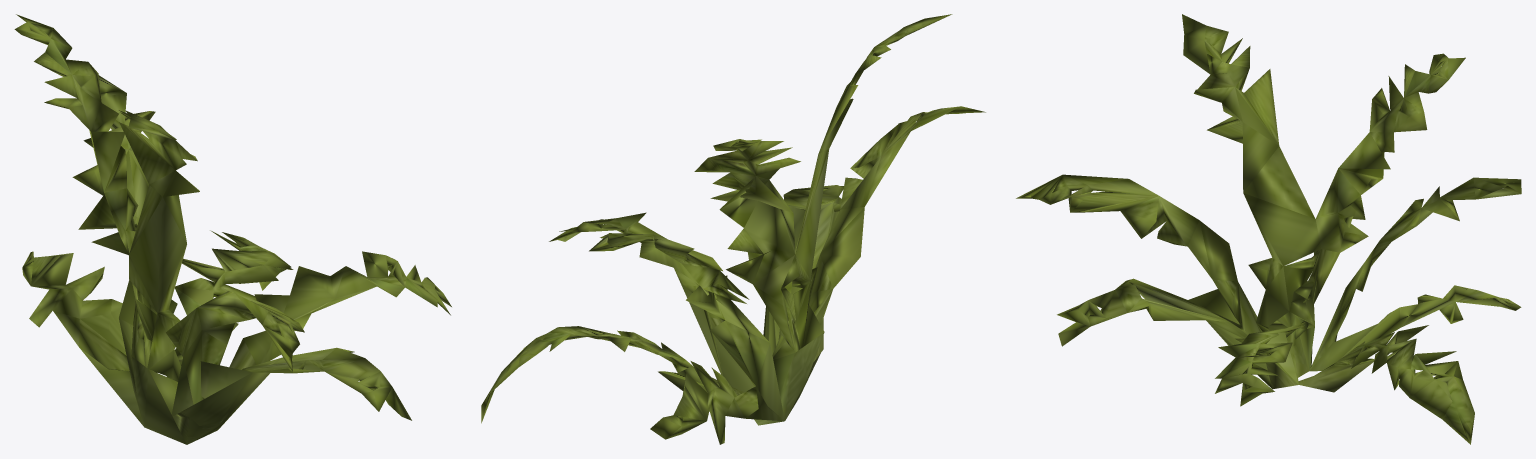
Rendered from fern.glb.
3 views of the same model, side by side, from view 1: azimuth 30°, elevation 25°; view 2: azimuth 150°, elevation 25°; view 3: azimuth 270°, elevation 25° (orthographic). The views are drawn at different scales.
Parts seen in each view (by area): view 1: tripo_node_51e38f97-0720-4334-9dbf-8b0d82329b2a; view 2: tripo_node_51e38f97-0720-4334-9dbf-8b0d82329b2a; view 3: tripo_node_51e38f97-0720-4334-9dbf-8b0d82329b2a.
Part boxes in pixels (left/top/right/bottom): tripo_node_51e38f97-0720-4334-9dbf-8b0d82329b2a: left=14, top=14, right=451, bottom=444; tripo_node_51e38f97-0720-4334-9dbf-8b0d82329b2a: left=481, top=14, right=985, bottom=444; tripo_node_51e38f97-0720-4334-9dbf-8b0d82329b2a: left=1016, top=14, right=1521, bottom=444.
Size of the model in its own units: 0.6298 by 0.6374 by 0.918.
1 material, 1 textured.
